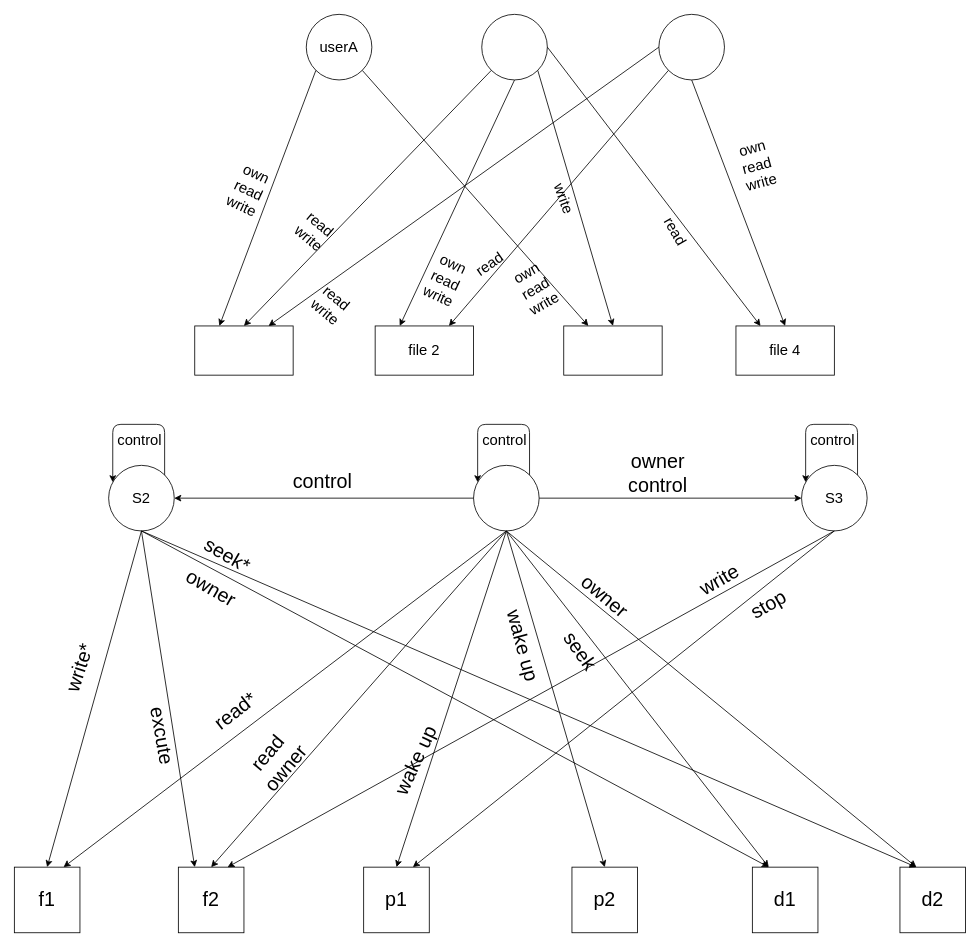
Image size: 980x947. Some labels were removed from this diagram. Here are the shapes that lost their labels. From the top down, the centre of each, then its label:
At (x=514, y=47): "userB".
At (x=691, y=47): "userC".
At (x=243, y=350): "file 1".
At (x=612, y=350): "file 3".
At (x=506, y=498): "S1".
